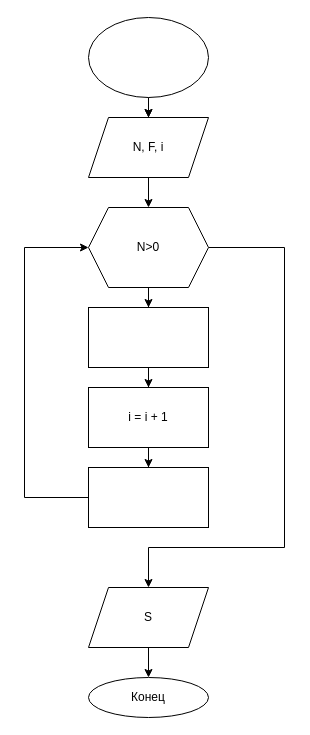
Image size: 310x735. Some labels were removed from this diagram. Here are the shapes that lost their labels. From the top down, the centre of each, then its label:
At (148,57): "Начало".
At (148,337): "F = F * i".
At (148,497): "N = N - 1".
